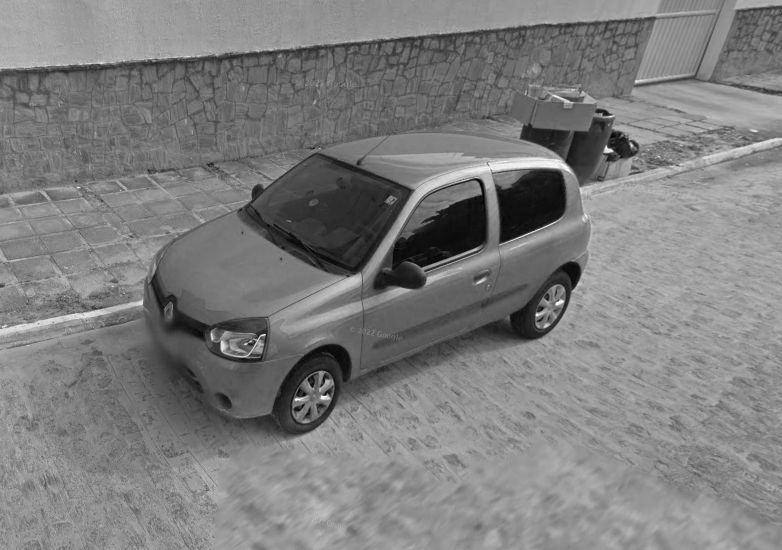car: (139, 125, 593, 437)
